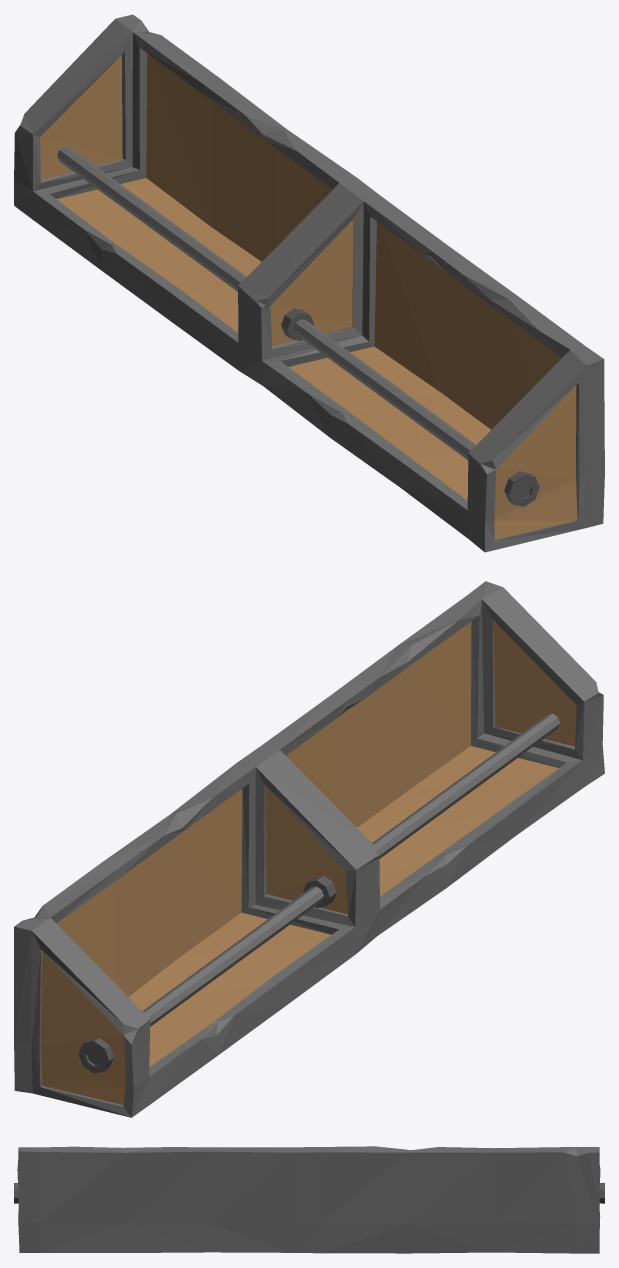
Rendered from SFFA_Weapon_Stand_001.fbx.
3 renders of one model, top to bottom at view 1: azimuth 30°, elevation 25°; view 2: azimuth 150°, elevation 25°; view 3: azimuth 270°, elevation 25°, orthographic. The views are drawn at different scales.
Visible parts, largest first — view 1: SFFA_Weapon_Stand_001; view 2: SFFA_Weapon_Stand_001; view 3: SFFA_Weapon_Stand_001.
Part boxes in pixels (bbox=[...]): SFFA_Weapon_Stand_001: bbox=[14, 14, 604, 552]; SFFA_Weapon_Stand_001: bbox=[14, 581, 604, 1117]; SFFA_Weapon_Stand_001: bbox=[14, 1146, 604, 1253].
Bounding box in the file's own units: 29.73 × 38.62 × 202.
